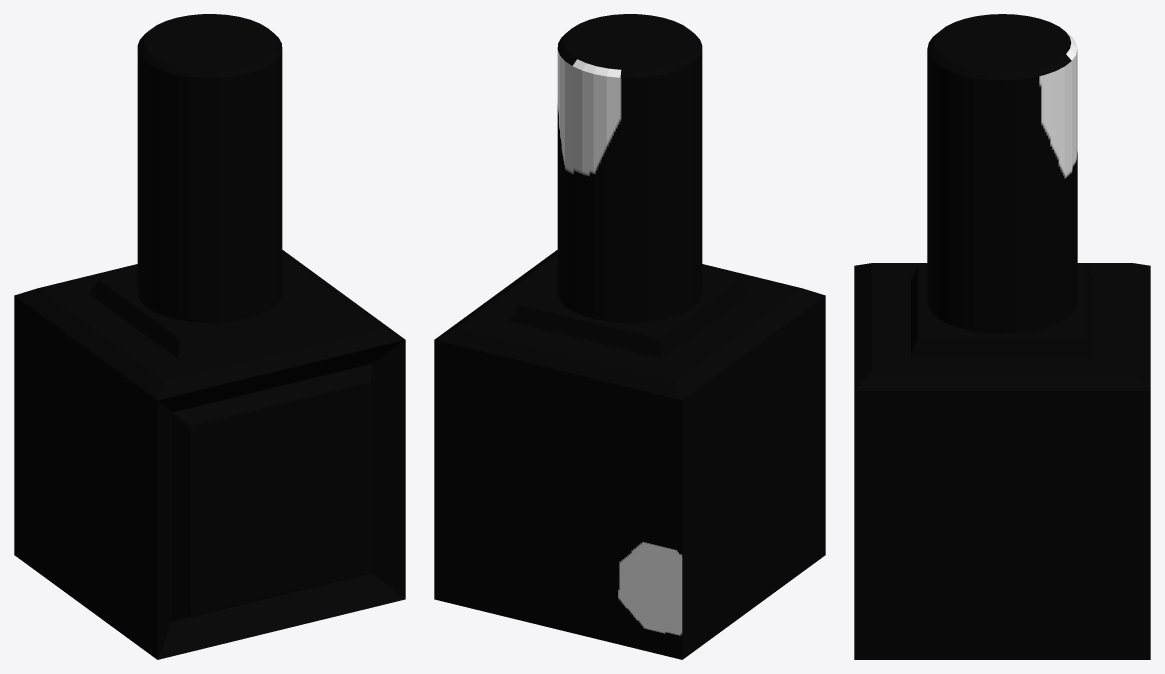
The model's file is Totem_Base.fbx.
3 renders of one model, left to right at view 1: azimuth 30°, elevation 25°; view 2: azimuth 150°, elevation 25°; view 3: azimuth 270°, elevation 25°, orthographic. The views are drawn at different scales.
Parts seen in each view (by area): view 1: Cube; view 2: Cube; view 3: Cube.
Boxes of the visible parts, x1=… form: Cube: x1=14, y1=14, x2=405, y2=659; Cube: x1=434, y1=14, x2=825, y2=659; Cube: x1=854, y1=14, x2=1150, y2=659.
Size of the model in its own units: 200 by 412 by 200.
